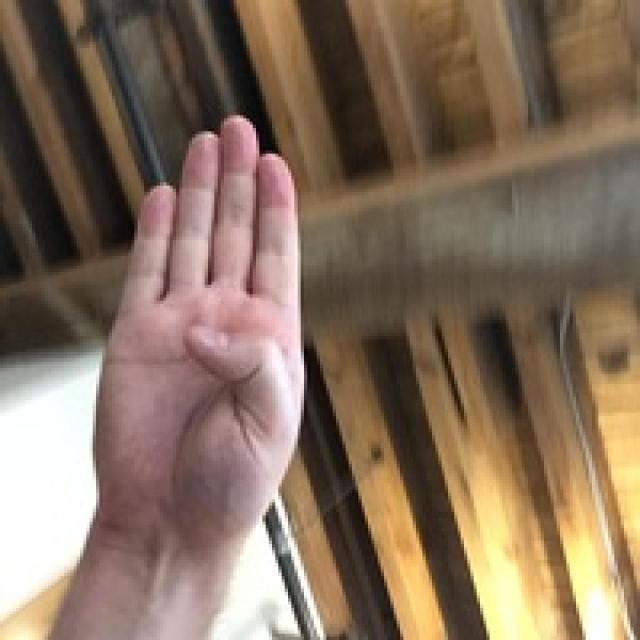B: (94, 104, 326, 555)
